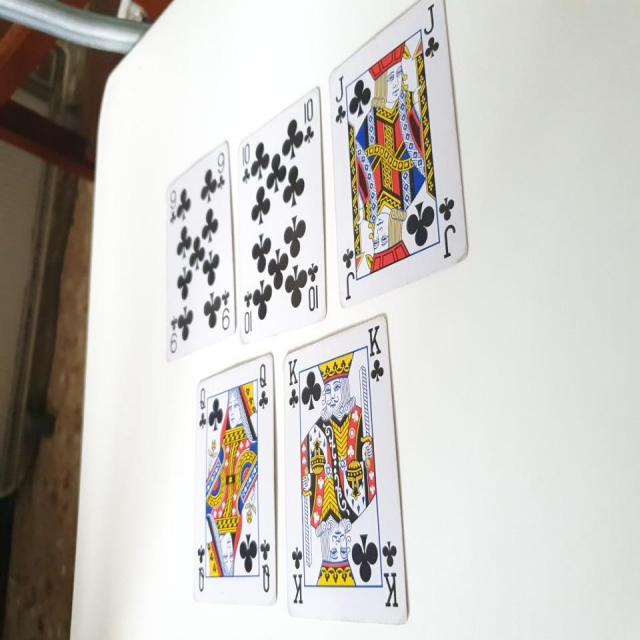10 Trefoils: (235, 80, 331, 343)
9 Trefoils: (164, 138, 238, 365)
J Trefoils: (327, 1, 470, 308)
K Trefoils: (282, 311, 411, 629)
Q Trefoils: (192, 351, 279, 604)
